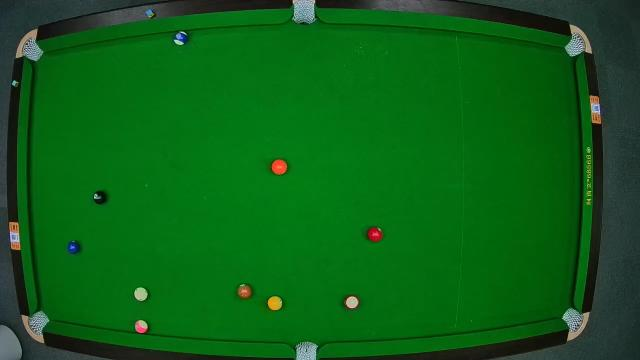bag1: (19, 36, 45, 64)
bag2: (292, 0, 316, 26)
bag3: (563, 30, 589, 57)
bag4: (25, 309, 51, 339)
bag5: (294, 340, 318, 360)
bag6: (560, 306, 586, 334)
ball0: (133, 286, 149, 302)
ball1: (268, 294, 284, 312)
ball10: (172, 30, 190, 46)
ball11: (344, 294, 360, 312)
ball12: (134, 318, 148, 334)
ball2: (67, 240, 81, 256)
ball3: (366, 226, 384, 243)
ball5: (271, 160, 287, 176)
ball7: (237, 282, 253, 298)
ball8: (92, 190, 108, 207)
